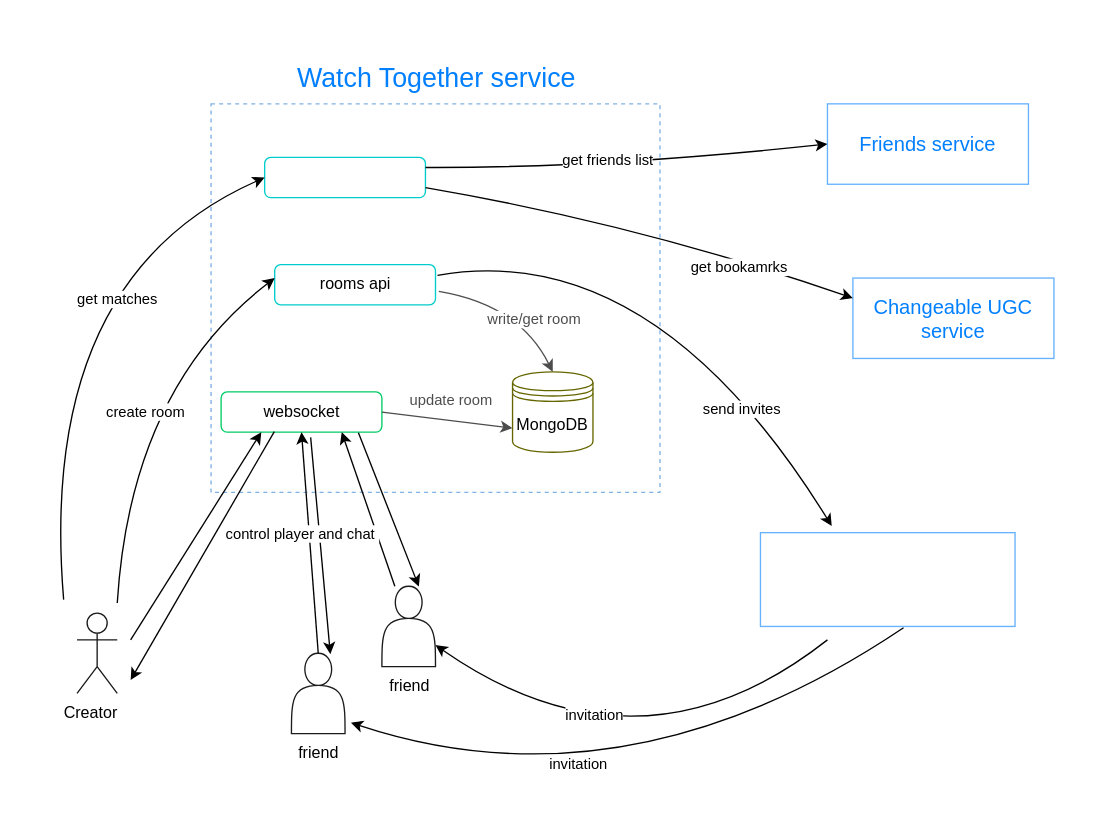
This 1119x838 diagram has some shape labels left out. Each missing label, with the centre of its shape:
"matches api" goes at point (344, 177).
"Notifications service" goes at point (887, 578).
